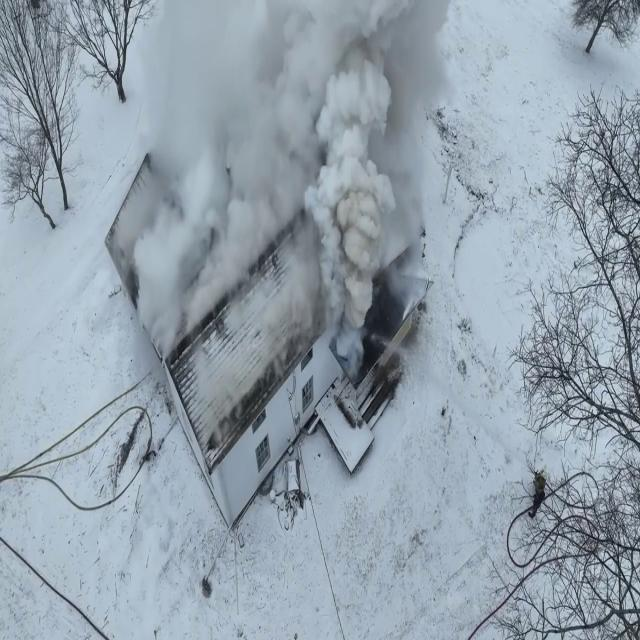Smoke: (125, 0, 462, 444)
